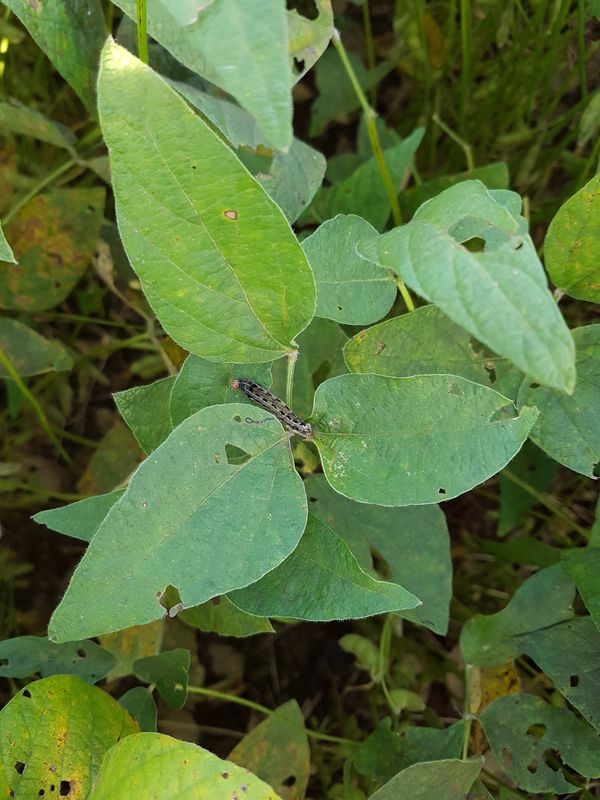Spodoptera_albula: (214, 365, 325, 455)
